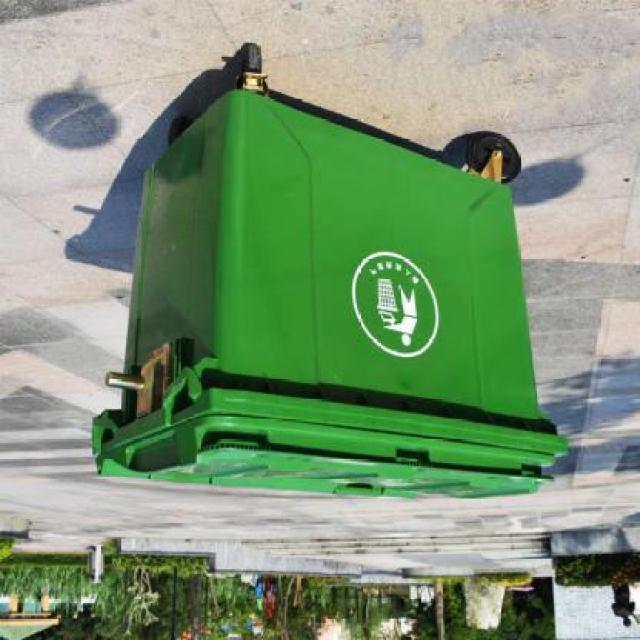garbage container: (78, 26, 595, 512)
